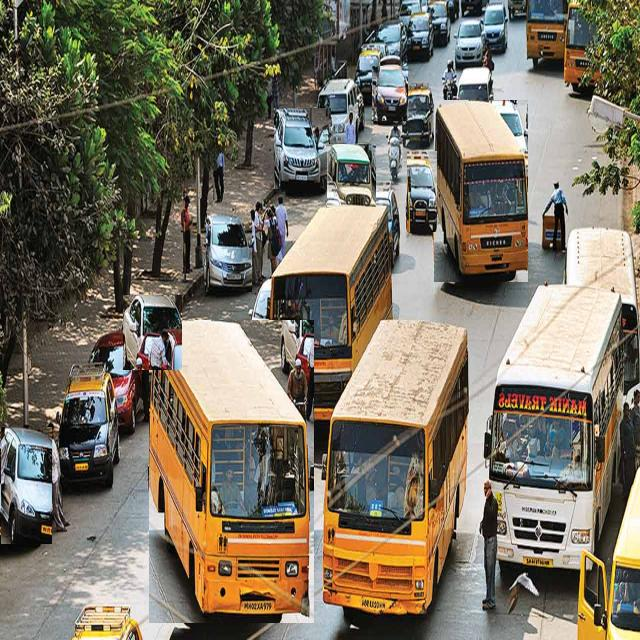bus: (149, 320, 314, 623), (322, 320, 469, 613), (485, 284, 624, 569), (270, 204, 392, 420), (434, 100, 528, 282)
car: (59, 364, 120, 487), (1, 427, 51, 544), (91, 329, 141, 432), (274, 109, 331, 189), (123, 295, 181, 370), (206, 214, 251, 292), (327, 144, 375, 207), (407, 151, 436, 232), (401, 82, 436, 146), (372, 67, 408, 121), (455, 18, 486, 68)
motorcycle: (388, 116, 401, 182)
